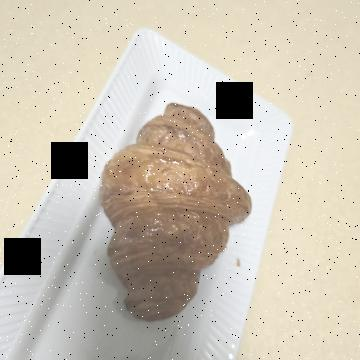croissant: (94, 110, 336, 278)
